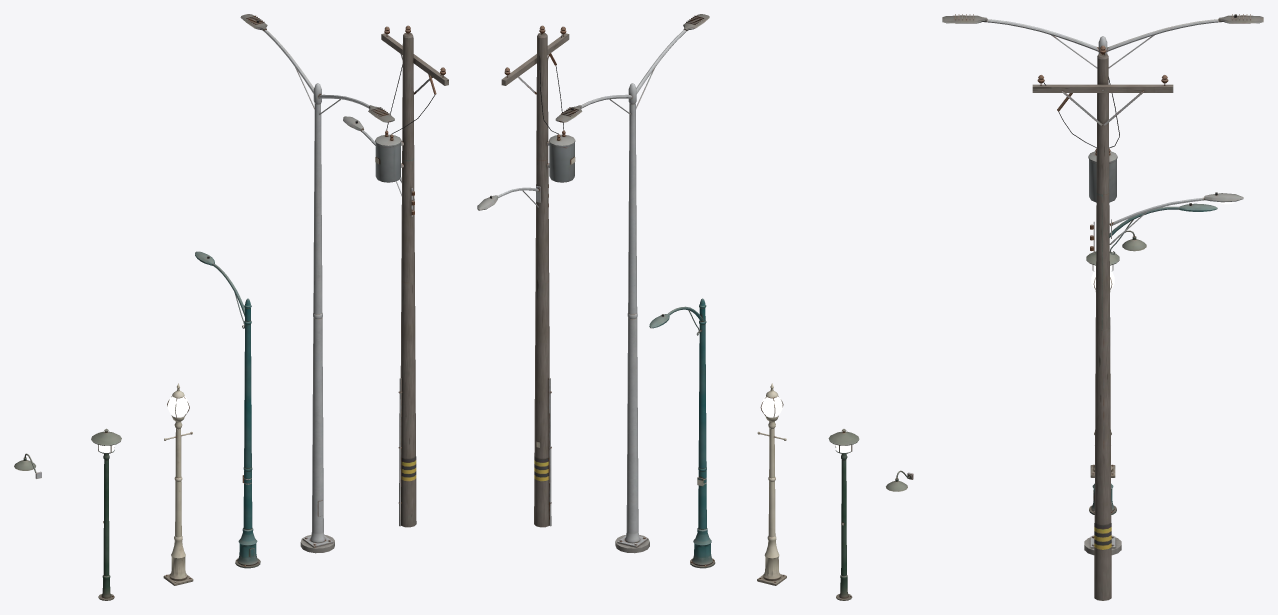
File: set_street_lighting.glb
3 views of the same model, side by side, from view 1: azimuth 30°, elevation 25°; view 2: azimuth 150°, elevation 25°; view 3: azimuth 270°, elevation 25° (orthographic). The views are drawn at different scales.
Parts seen in each view (by area): view 1: utility_pole_lod0, lamp_avenue_lod0, lamp_arm_lod0, lamp_promenade_lod0, lamp_park_lod0; view 2: utility_pole_lod0, lamp_avenue_lod0, lamp_arm_lod0, lamp_promenade_lod0, lamp_park_lod0; view 3: utility_pole_lod0, lamp_avenue_lod0, lamp_arm_lod0.
Part boxes in pixels (x1,y1,x2,y2): utility_pole_lod0: (343,25,448,527); lamp_avenue_lod0: (240,14,394,553); lamp_arm_lod0: (195,251,260,568); lamp_promenade_lod0: (163,383,193,585); lamp_park_lod0: (91,428,121,600); utility_pole_lod0: (477,25,575,527); lamp_avenue_lod0: (555,14,709,553); lamp_arm_lod0: (649,298,715,568); lamp_promenade_lod0: (757,383,786,585); lamp_park_lod0: (828,429,859,600); utility_pole_lod0: (1032,45,1243,600); lamp_avenue_lod0: (942,14,1263,555); lamp_arm_lod0: (1089,203,1217,514).
Size of what is drawn, in the model's own units: 8.82 by 10.83 by 5.72.
2 materials, 2 textured.
